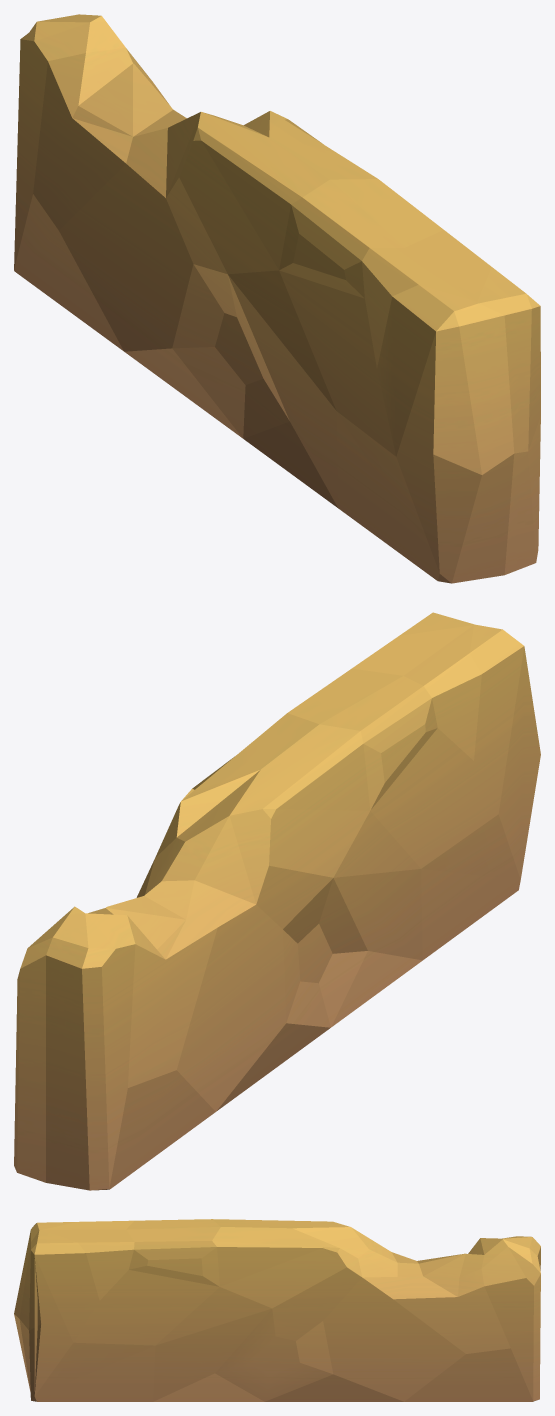
3 renders of one model, top to bottom at view 1: azimuth 30°, elevation 25°; view 2: azimuth 150°, elevation 25°; view 3: azimuth 270°, elevation 25°, orthographic. The views are drawn at different scales.
Visible parts, largest first — view 1: OldWall3; view 2: OldWall3; view 3: OldWall3.
Part boxes in pixels (x1,y1,x2,y2): OldWall3: (14,14,540,583); OldWall3: (14,612,540,1190); OldWall3: (14,1219,540,1401).
Bounding box in the file's own units: 1.03 × 2.28 × 6.64.
1 material, 1 textured.
